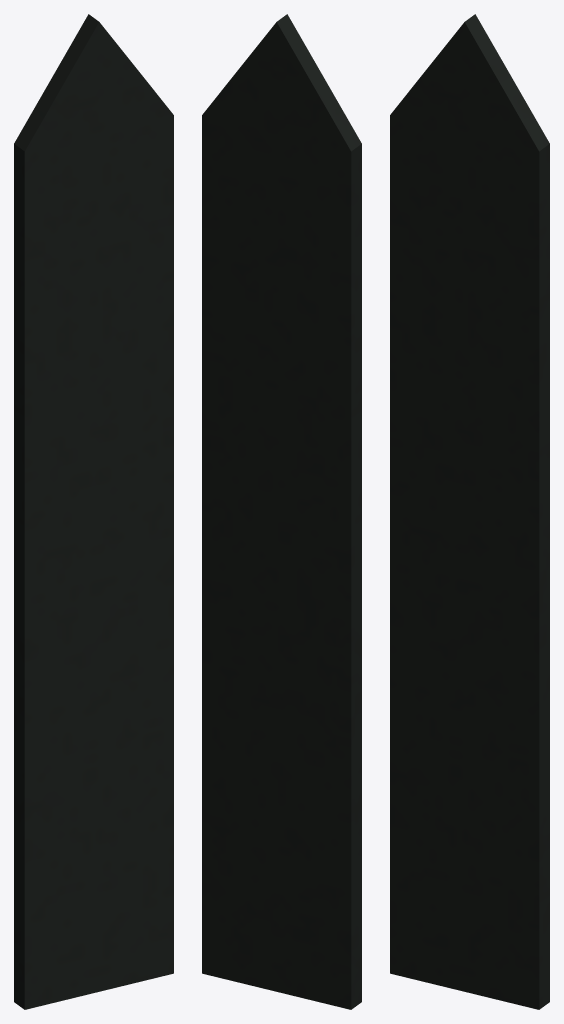
Rendered from clock-hour.fbx.
The picture shows the model from 3 angles, left to right: view 1: azimuth 30°, elevation 25°; view 2: azimuth 150°, elevation 25°; view 3: azimuth 330°, elevation 25°; orthographic projection.
Visible parts, largest first — view 1: clock-hour; view 2: clock-hour; view 3: clock-hour.
Part boxes in pixels (x1,y1,x2,y2): clock-hour: (14, 14, 173, 1009); clock-hour: (202, 14, 361, 1009); clock-hour: (390, 14, 549, 1009).
Size of the model in its own units: 280 by 1740 by 35.
1 material, 1 textured.
